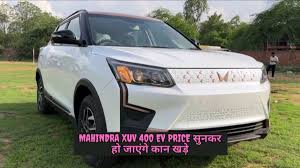XUV 400: (33, 7, 273, 165)
